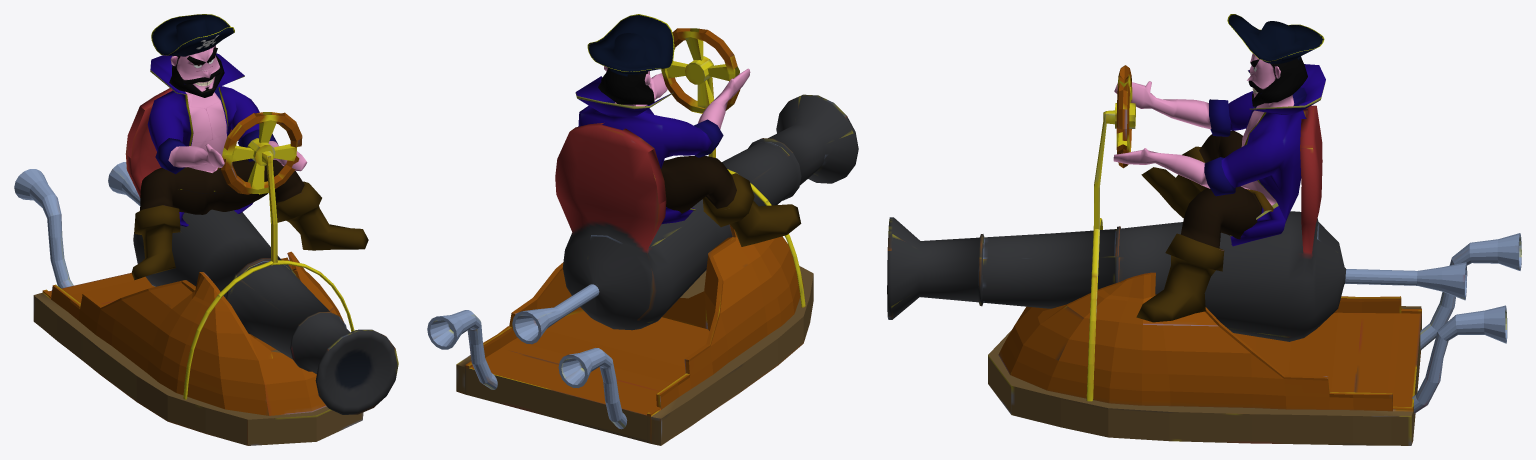
The model's file is pirataGiroDER_000567.obj.
3 views of the same model, side by side, from view 1: azimuth 30°, elevation 25°; view 2: azimuth 150°, elevation 25°; view 3: azimuth 270°, elevation 25° (orthographic). The views are drawn at different scales.
Visible parts, largest first — view 1: carro_pirata, Pirata_PirataH; view 2: carro_pirata, Pirata_PirataH; view 3: carro_pirata, Pirata_PirataH.
Part boxes in pixels (<box>): carro_pirata: <box>14,88,398,445</box>; Pirata_PirataH: <box>131,14,368,280</box>; carro_pirata: <box>427,28,858,445</box>; Pirata_PirataH: <box>575,14,801,246</box>; carro_pirata: <box>887,65,1521,445</box>; Pirata_PirataH: <box>1113,14,1325,322</box>.
Bounding box in the file's own units: 5.7 × 7.74 × 12.1.
Materials: 2 (2 with a texture image).
